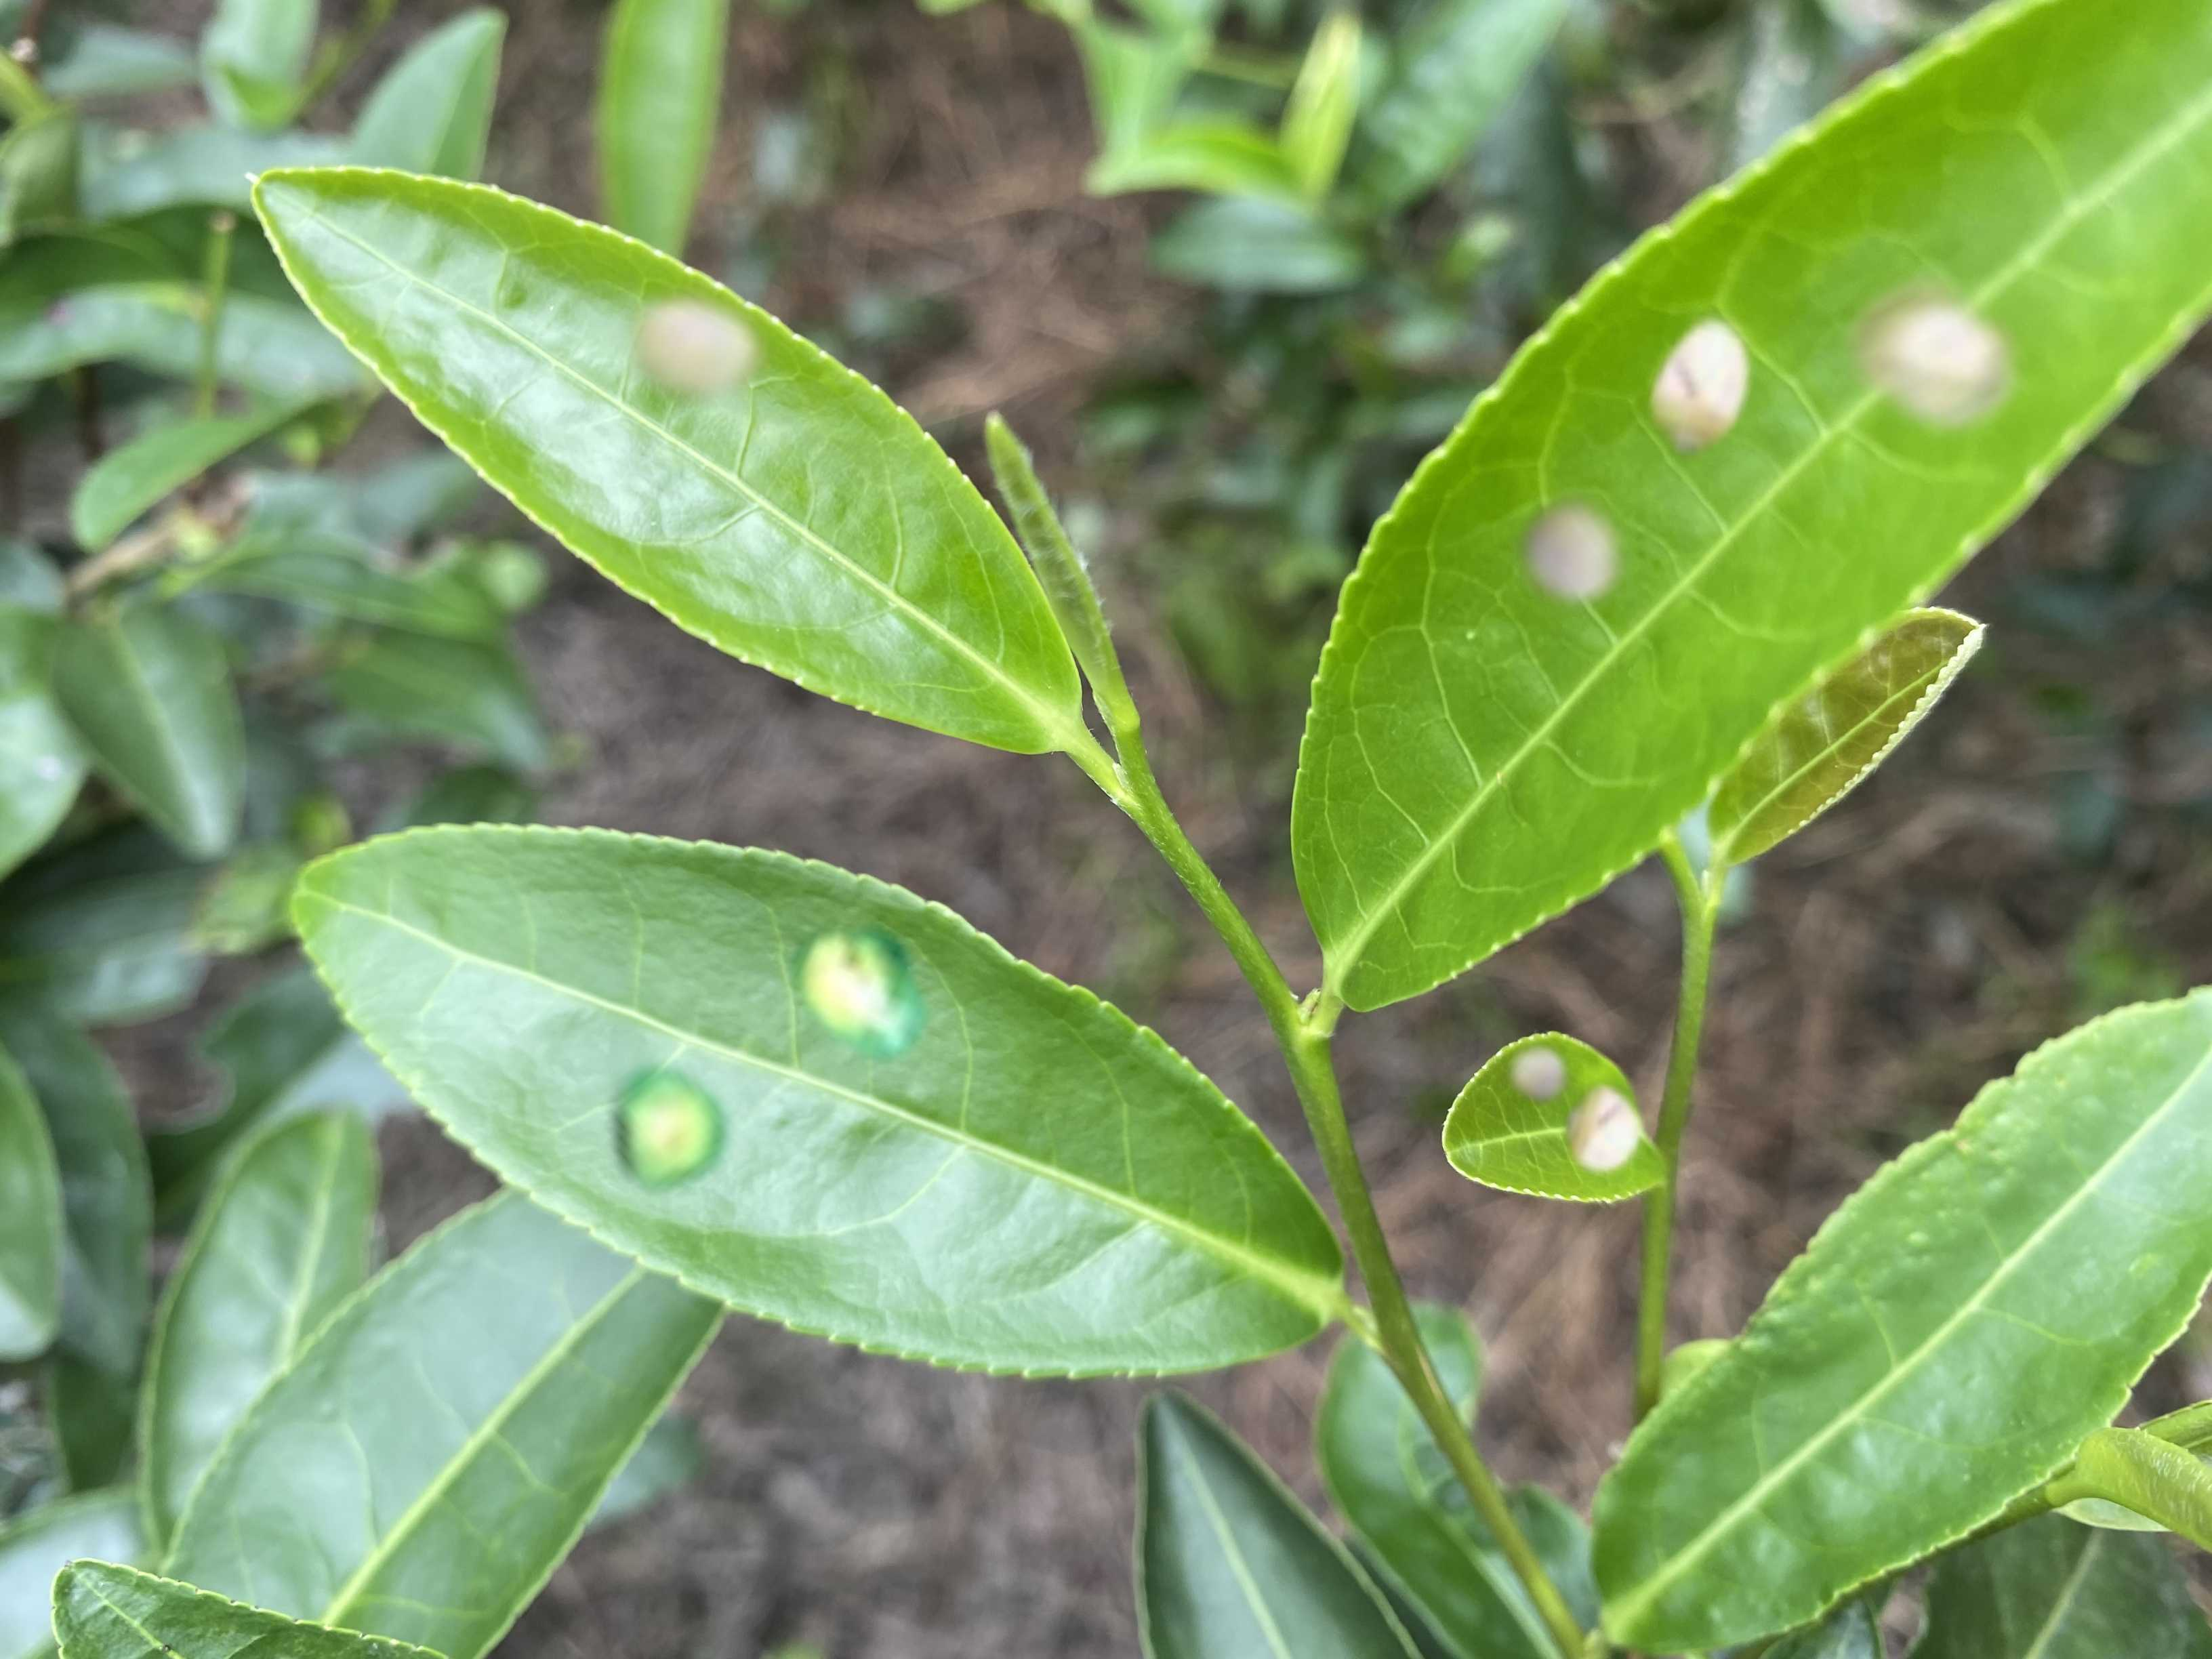chabing_high: (1289, 3, 2209, 1016), (289, 821, 1348, 1380), (1442, 1032, 1669, 1202)
chabing_low: (249, 167, 1085, 756)
tanju_low: (1703, 603, 1993, 868)
